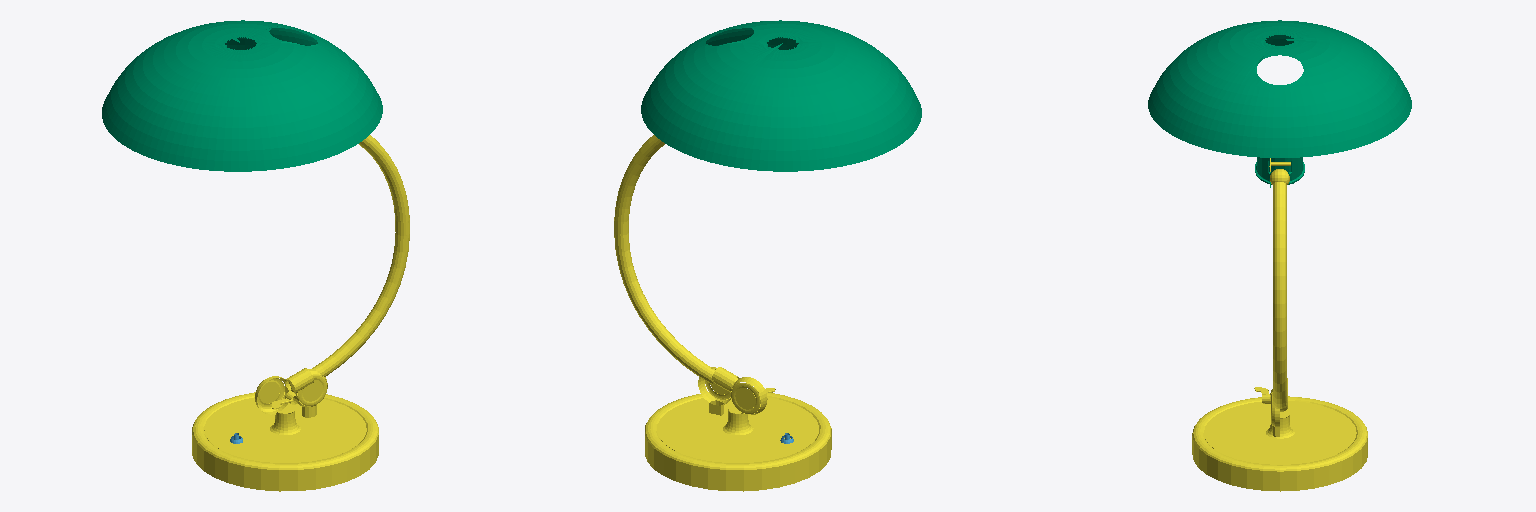
URDF robot description (partnet_a801be11157a7f243d39d8012919dd25):
<?xml version="1.0" ?>
<robot name="partnet_a801be11157a7f243d39d8012919dd25">
	<link name="base"/>
	<link name="link_0">
		<visual name="movable_part-18">
			<origin xyz="0.0016766748026083014 0 -0.1305361544772912"/>
			<geometry>
				<mesh filename="textured_objs/original-126.obj"/>
			</geometry>
		</visual>
		<visual name="movable_part-18">
			<origin xyz="0.0016766748026083014 0 -0.1305361544772912"/>
			<geometry>
				<mesh filename="textured_objs/original-129.obj"/>
			</geometry>
		</visual>
		<visual name="movable_part-18">
			<origin xyz="0.0016766748026083014 0 -0.1305361544772912"/>
			<geometry>
				<mesh filename="textured_objs/original-130.obj"/>
			</geometry>
		</visual>
		<visual name="movable_part-18">
			<origin xyz="0.0016766748026083014 0 -0.1305361544772912"/>
			<geometry>
				<mesh filename="textured_objs/original-128.obj"/>
			</geometry>
		</visual>
		<visual name="movable_part-18">
			<origin xyz="0.0016766748026083014 0 -0.1305361544772912"/>
			<geometry>
				<mesh filename="textured_objs/original-131.obj"/>
			</geometry>
		</visual>
		<visual name="movable_part-18">
			<origin xyz="0.0016766748026083014 0 -0.1305361544772912"/>
			<geometry>
				<mesh filename="textured_objs/original-127.obj"/>
			</geometry>
		</visual>
		<collision>
			<origin xyz="0.0016766748026083014 0 -0.1305361544772912"/>
			<geometry>
				<mesh filename="textured_objs/original-126.obj"/>
			</geometry>
		</collision>
		<collision>
			<origin xyz="0.0016766748026083014 0 -0.1305361544772912"/>
			<geometry>
				<mesh filename="textured_objs/original-129.obj"/>
			</geometry>
		</collision>
		<collision>
			<origin xyz="0.0016766748026083014 0 -0.1305361544772912"/>
			<geometry>
				<mesh filename="textured_objs/original-130.obj"/>
			</geometry>
		</collision>
		<collision>
			<origin xyz="0.0016766748026083014 0 -0.1305361544772912"/>
			<geometry>
				<mesh filename="textured_objs/original-128.obj"/>
			</geometry>
		</collision>
		<collision>
			<origin xyz="0.0016766748026083014 0 -0.1305361544772912"/>
			<geometry>
				<mesh filename="textured_objs/original-131.obj"/>
			</geometry>
		</collision>
		<collision>
			<origin xyz="0.0016766748026083014 0 -0.1305361544772912"/>
			<geometry>
				<mesh filename="textured_objs/original-127.obj"/>
			</geometry>
		</collision>
	</link>
	<joint name="joint_0" type="prismatic">
		<origin xyz="-0.0016766748026083014 0 0.1305361544772912"/>
		<axis xyz="0 -1 0"/>
		<child link="link_0"/>
		<parent link="link_2"/>
		<limit lower="0.0040000000000000036" upper="0.02400000000000002"/>
	</joint>
	<link name="link_1">
		<visual name="lamp_shade-12">
			<origin xyz="0 -0.25319461552293576 0.1731515736127665"/>
			<geometry>
				<mesh filename="textured_objs/original-10.obj"/>
			</geometry>
		</visual>
		<visual name="lamp_shade-12">
			<origin xyz="0 -0.25319461552293576 0.1731515736127665"/>
			<geometry>
				<mesh filename="textured_objs/original-24.obj"/>
			</geometry>
		</visual>
		<visual name="lamp_shade-12">
			<origin xyz="0 -0.25319461552293576 0.1731515736127665"/>
			<geometry>
				<mesh filename="textured_objs/original-23.obj"/>
			</geometry>
		</visual>
		<visual name="lamp_shade-12">
			<origin xyz="0 -0.25319461552293576 0.1731515736127665"/>
			<geometry>
				<mesh filename="textured_objs/original-2.obj"/>
			</geometry>
		</visual>
		<visual name="lamp_shade-12">
			<origin xyz="0 -0.25319461552293576 0.1731515736127665"/>
			<geometry>
				<mesh filename="textured_objs/original-3.obj"/>
			</geometry>
		</visual>
		<visual name="light_socket-11">
			<origin xyz="0 -0.25319461552293576 0.1731515736127665"/>
			<geometry>
				<mesh filename="textured_objs/original-4.obj"/>
			</geometry>
		</visual>
		<visual name="light_socket-11">
			<origin xyz="0 -0.25319461552293576 0.1731515736127665"/>
			<geometry>
				<mesh filename="textured_objs/original-21.obj"/>
			</geometry>
		</visual>
		<collision>
			<origin xyz="0 -0.25319461552293576 0.1731515736127665"/>
			<geometry>
				<mesh filename="textured_objs/original-10.obj"/>
			</geometry>
		</collision>
		<collision>
			<origin xyz="0 -0.25319461552293576 0.1731515736127665"/>
			<geometry>
				<mesh filename="textured_objs/original-24.obj"/>
			</geometry>
		</collision>
		<collision>
			<origin xyz="0 -0.25319461552293576 0.1731515736127665"/>
			<geometry>
				<mesh filename="textured_objs/original-23.obj"/>
			</geometry>
		</collision>
		<collision>
			<origin xyz="0 -0.25319461552293576 0.1731515736127665"/>
			<geometry>
				<mesh filename="textured_objs/original-2.obj"/>
			</geometry>
		</collision>
		<collision>
			<origin xyz="0 -0.25319461552293576 0.1731515736127665"/>
			<geometry>
				<mesh filename="textured_objs/original-3.obj"/>
			</geometry>
		</collision>
		<collision>
			<origin xyz="0 -0.25319461552293576 0.1731515736127665"/>
			<geometry>
				<mesh filename="textured_objs/original-4.obj"/>
			</geometry>
		</collision>
		<collision>
			<origin xyz="0 -0.25319461552293576 0.1731515736127665"/>
			<geometry>
				<mesh filename="textured_objs/original-21.obj"/>
			</geometry>
		</collision>
	</link>
	<joint name="joint_1" type="revolute">
		<origin xyz="0 0.25319461552293576 -0.1731515736127665"/>
		<axis xyz="1 0 0"/>
		<child link="link_1"/>
		<parent link="link_2"/>
		<limit lower="-0.867079572390783" upper="1.3948671381938682"/>
	</joint>
	<link name="link_2">
		<visual name="lamp_base_part-19">
			<origin xyz="0 0 0"/>
			<geometry>
				<mesh filename="textured_objs/original-124.obj"/>
			</geometry>
		</visual>
		<visual name="lamp_base_part-19">
			<origin xyz="0 0 0"/>
			<geometry>
				<mesh filename="textured_objs/original-104.obj"/>
			</geometry>
		</visual>
		<visual name="lamp_base_part-19">
			<origin xyz="0 0 0"/>
			<geometry>
				<mesh filename="textured_objs/original-132.obj"/>
			</geometry>
		</visual>
		<visual name="lamp_base_part-19">
			<origin xyz="0 0 0"/>
			<geometry>
				<mesh filename="textured_objs/original-117.obj"/>
			</geometry>
		</visual>
		<visual name="lamp_base_part-19">
			<origin xyz="0 0 0"/>
			<geometry>
				<mesh filename="textured_objs/original-118.obj"/>
			</geometry>
		</visual>
		<visual name="lamp_arm_curved_bar-9">
			<origin xyz="0 0 0"/>
			<geometry>
				<mesh filename="textured_objs/original-103.obj"/>
			</geometry>
		</visual>
		<visual name="lamp_arm_curved_bar-9">
			<origin xyz="0 0 0"/>
			<geometry>
				<mesh filename="textured_objs/original-122.obj"/>
			</geometry>
		</visual>
		<visual name="lamp_arm_curved_bar-9">
			<origin xyz="0 0 0"/>
			<geometry>
				<mesh filename="textured_objs/original-115.obj"/>
			</geometry>
		</visual>
		<visual name="lamp_arm_curved_bar-9">
			<origin xyz="0 0 0"/>
			<geometry>
				<mesh filename="textured_objs/original-113.obj"/>
			</geometry>
		</visual>
		<visual name="lamp_arm_curved_bar-9">
			<origin xyz="0 0 0"/>
			<geometry>
				<mesh filename="textured_objs/original-114.obj"/>
			</geometry>
		</visual>
		<visual name="lamp_arm_curved_bar-9">
			<origin xyz="0 0 0"/>
			<geometry>
				<mesh filename="textured_objs/original-120.obj"/>
			</geometry>
		</visual>
		<visual name="lamp_arm_curved_bar-9">
			<origin xyz="0 0 0"/>
			<geometry>
				<mesh filename="textured_objs/original-121.obj"/>
			</geometry>
		</visual>
		<visual name="lamp_arm_curved_bar-9">
			<origin xyz="0 0 0"/>
			<geometry>
				<mesh filename="textured_objs/original-111.obj"/>
			</geometry>
		</visual>
		<visual name="lamp_arm_curved_bar-9">
			<origin xyz="0 0 0"/>
			<geometry>
				<mesh filename="textured_objs/original-110.obj"/>
			</geometry>
		</visual>
		<visual name="lamp_arm_curved_bar-9">
			<origin xyz="0 0 0"/>
			<geometry>
				<mesh filename="textured_objs/original-26.obj"/>
			</geometry>
		</visual>
		<visual name="lamp_arm_curved_bar-9">
			<origin xyz="0 0 0"/>
			<geometry>
				<mesh filename="textured_objs/original-18.obj"/>
			</geometry>
		</visual>
		<visual name="lamp_arm_curved_bar-9">
			<origin xyz="0 0 0"/>
			<geometry>
				<mesh filename="textured_objs/original-28.obj"/>
			</geometry>
		</visual>
		<visual name="lamp_arm_curved_bar-9">
			<origin xyz="0 0 0"/>
			<geometry>
				<mesh filename="textured_objs/original-19.obj"/>
			</geometry>
		</visual>
		<visual name="lamp_arm_curved_bar-9">
			<origin xyz="0 0 0"/>
			<geometry>
				<mesh filename="textured_objs/original-20.obj"/>
			</geometry>
		</visual>
		<visual name="lamp_arm_curved_bar-9">
			<origin xyz="0 0 0"/>
			<geometry>
				<mesh filename="textured_objs/original-37.obj"/>
			</geometry>
		</visual>
		<visual name="lamp_arm_curved_bar-9">
			<origin xyz="0 0 0"/>
			<geometry>
				<mesh filename="textured_objs/original-108.obj"/>
			</geometry>
		</visual>
		<visual name="lamp_arm_curved_bar-9">
			<origin xyz="0 0 0"/>
			<geometry>
				<mesh filename="textured_objs/original-133.obj"/>
			</geometry>
		</visual>
		<visual name="lamp_arm_curved_bar-9">
			<origin xyz="0 0 0"/>
			<geometry>
				<mesh filename="textured_objs/original-8.obj"/>
			</geometry>
		</visual>
		<collision>
			<origin xyz="0 0 0"/>
			<geometry>
				<mesh filename="textured_objs/original-124.obj"/>
			</geometry>
		</collision>
		<collision>
			<origin xyz="0 0 0"/>
			<geometry>
				<mesh filename="textured_objs/original-104.obj"/>
			</geometry>
		</collision>
		<collision>
			<origin xyz="0 0 0"/>
			<geometry>
				<mesh filename="textured_objs/original-132.obj"/>
			</geometry>
		</collision>
		<collision>
			<origin xyz="0 0 0"/>
			<geometry>
				<mesh filename="textured_objs/original-117.obj"/>
			</geometry>
		</collision>
		<collision>
			<origin xyz="0 0 0"/>
			<geometry>
				<mesh filename="textured_objs/original-118.obj"/>
			</geometry>
		</collision>
		<collision>
			<origin xyz="0 0 0"/>
			<geometry>
				<mesh filename="textured_objs/original-103.obj"/>
			</geometry>
		</collision>
		<collision>
			<origin xyz="0 0 0"/>
			<geometry>
				<mesh filename="textured_objs/original-122.obj"/>
			</geometry>
		</collision>
		<collision>
			<origin xyz="0 0 0"/>
			<geometry>
				<mesh filename="textured_objs/original-115.obj"/>
			</geometry>
		</collision>
		<collision>
			<origin xyz="0 0 0"/>
			<geometry>
				<mesh filename="textured_objs/original-113.obj"/>
			</geometry>
		</collision>
		<collision>
			<origin xyz="0 0 0"/>
			<geometry>
				<mesh filename="textured_objs/original-114.obj"/>
			</geometry>
		</collision>
		<collision>
			<origin xyz="0 0 0"/>
			<geometry>
				<mesh filename="textured_objs/original-120.obj"/>
			</geometry>
		</collision>
		<collision>
			<origin xyz="0 0 0"/>
			<geometry>
				<mesh filename="textured_objs/original-121.obj"/>
			</geometry>
		</collision>
		<collision>
			<origin xyz="0 0 0"/>
			<geometry>
				<mesh filename="textured_objs/original-111.obj"/>
			</geometry>
		</collision>
		<collision>
			<origin xyz="0 0 0"/>
			<geometry>
				<mesh filename="textured_objs/original-110.obj"/>
			</geometry>
		</collision>
		<collision>
			<origin xyz="0 0 0"/>
			<geometry>
				<mesh filename="textured_objs/original-26.obj"/>
			</geometry>
		</collision>
		<collision>
			<origin xyz="0 0 0"/>
			<geometry>
				<mesh filename="textured_objs/original-18.obj"/>
			</geometry>
		</collision>
		<collision>
			<origin xyz="0 0 0"/>
			<geometry>
				<mesh filename="textured_objs/original-28.obj"/>
			</geometry>
		</collision>
		<collision>
			<origin xyz="0 0 0"/>
			<geometry>
				<mesh filename="textured_objs/original-19.obj"/>
			</geometry>
		</collision>
		<collision>
			<origin xyz="0 0 0"/>
			<geometry>
				<mesh filename="textured_objs/original-20.obj"/>
			</geometry>
		</collision>
		<collision>
			<origin xyz="0 0 0"/>
			<geometry>
				<mesh filename="textured_objs/original-37.obj"/>
			</geometry>
		</collision>
		<collision>
			<origin xyz="0 0 0"/>
			<geometry>
				<mesh filename="textured_objs/original-108.obj"/>
			</geometry>
		</collision>
		<collision>
			<origin xyz="0 0 0"/>
			<geometry>
				<mesh filename="textured_objs/original-133.obj"/>
			</geometry>
		</collision>
		<collision>
			<origin xyz="0 0 0"/>
			<geometry>
				<mesh filename="textured_objs/original-8.obj"/>
			</geometry>
		</collision>
	</link>
	<joint name="joint_2" type="fixed">
		<origin rpy="1.570796326794897 0 -1.570796326794897" xyz="0 0 0"/>
		<child link="link_2"/>
		<parent link="base"/>
	</joint>
</robot>

--- Render facts (derived) ---
Views: 3 orthographic renders of the robot side by side, from view 1: azimuth 30°, elevation 25°; view 2: azimuth 150°, elevation 25°; view 3: azimuth 270°, elevation 25°.
Robot: partnet_a801be11157a7f243d39d8012919dd25 — 4 links, 3 joints (1 revolute, 1 prismatic, 1 fixed); root link base; default pose: all joints at 0 but 1 set to mid-range because 0 is outside their limits (joint_0 = 0.014).
Visible links, largest first — view 1: link_1, link_2; view 2: link_1, link_2; view 3: link_1, link_2.
Boxes of the visible links, x1,y1,x2,y2 form: link_1: (102,20,382,171); link_2: (192,135,409,491); link_1: (641,20,921,171); link_2: (614,135,831,491); link_1: (1148,20,1411,187); link_2: (1192,158,1367,491).
Size in the robot's own frame: 0.9719 by 0.8204 by 1.35 metres.
Meshes: 36 distinct files referenced, 36 mesh visuals loaded (36 OBJ).
